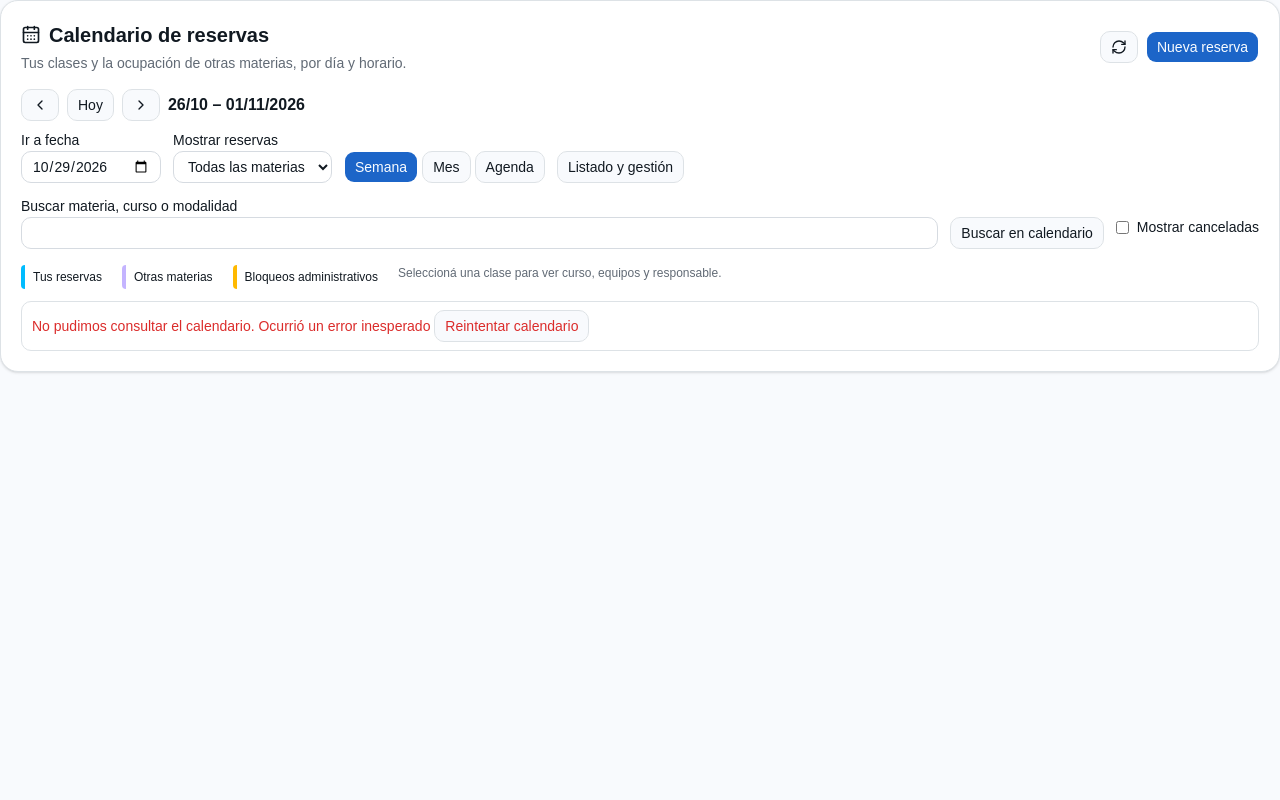
Test: un error de calendario permite reintentar y no muestra una falsa ausencia
Check: the message shows "No pudimos consultar el calendario", box [32,318,258,334]
Check: the text "No hay reservas que coincidan" is not shown
Click the button "Reintentar calendario": (512, 326) [434,310,589,342]
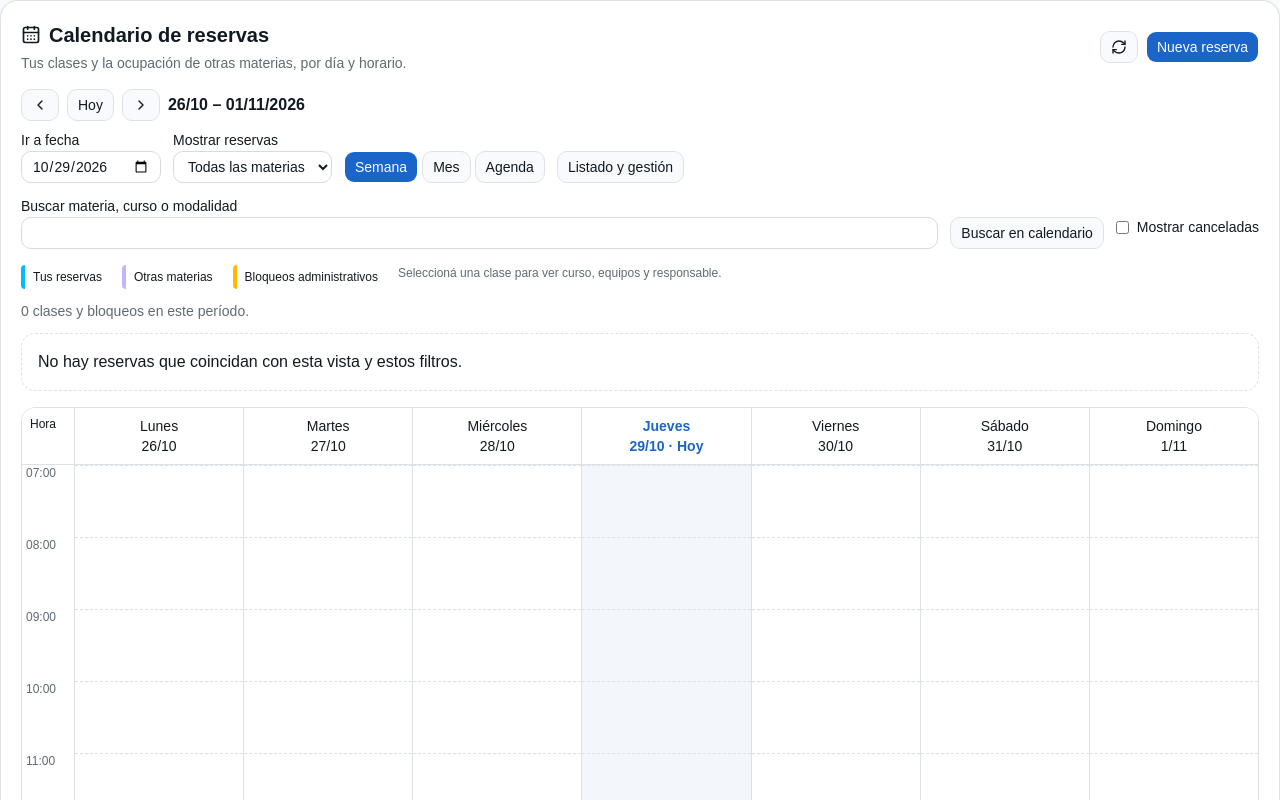
Check: the text "No hay reservas que coincidan" is shown, box [38,353,462,370]
